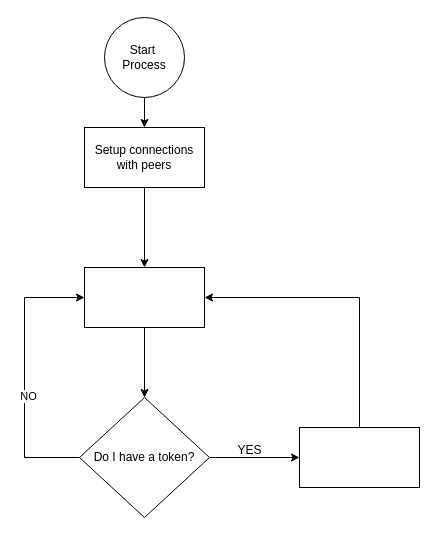
The diagram is 437 pixels wide and 535 high, and some of its shapes have lost their labels. The centre of each missing label's shape, as x and y in pixels:
Handle incoming messages: (x=144, y=297)
Pass token: (x=359, y=457)
